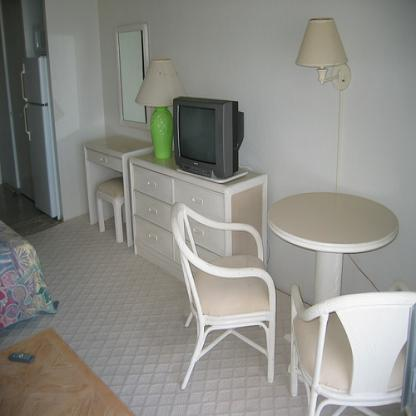chair: (171, 199, 274, 392), (290, 277, 416, 415)
tvmonitor: (172, 95, 244, 180)
